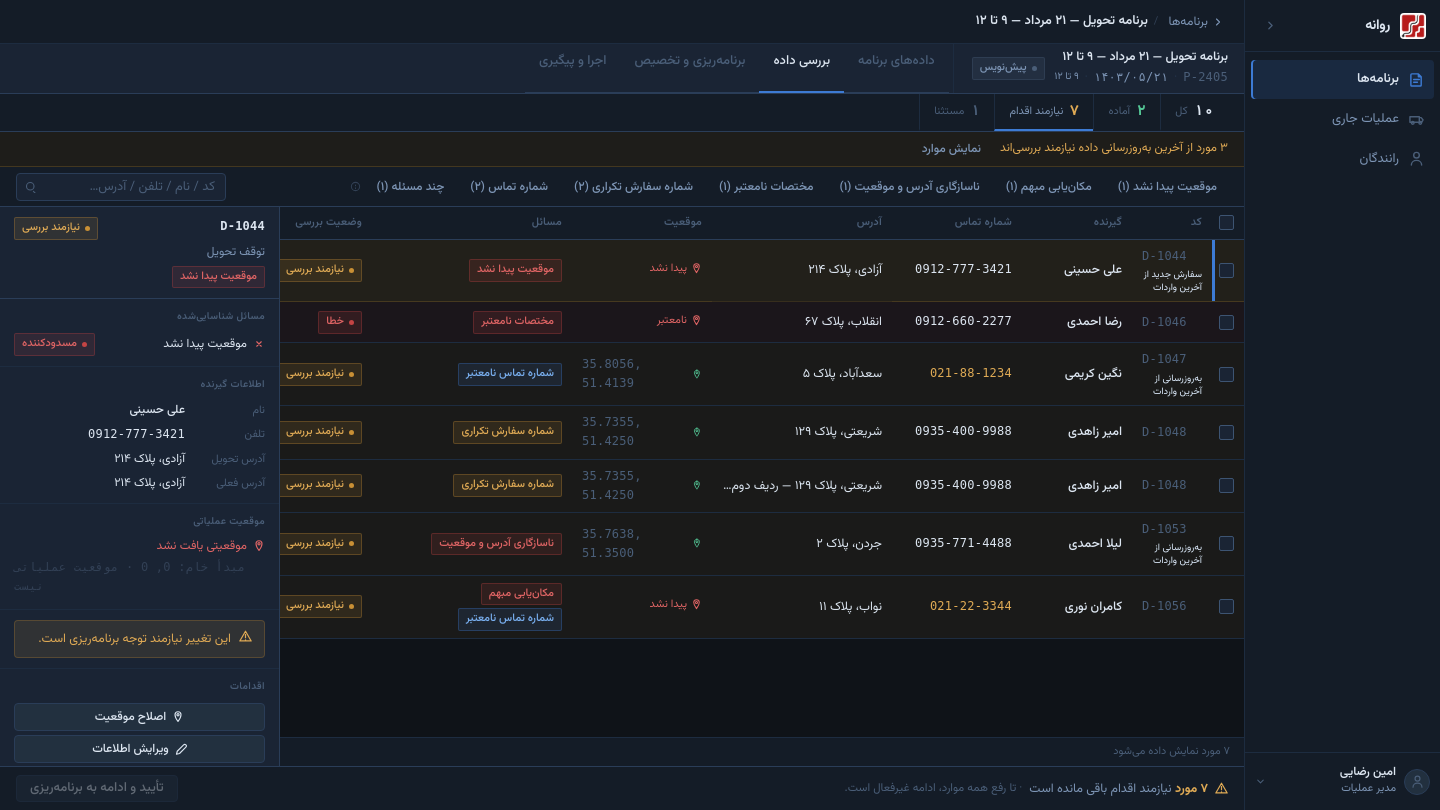
Test: Review shell › preserves hidden selection while search and filters change
The image size is (1440, 810).
Expected: the heading "اطلاعات گیرنده" is shown, [201, 376, 265, 392]
Click the checkbox named "انتخاب D-1044" at [1226, 270], box [1219, 263, 1234, 278]
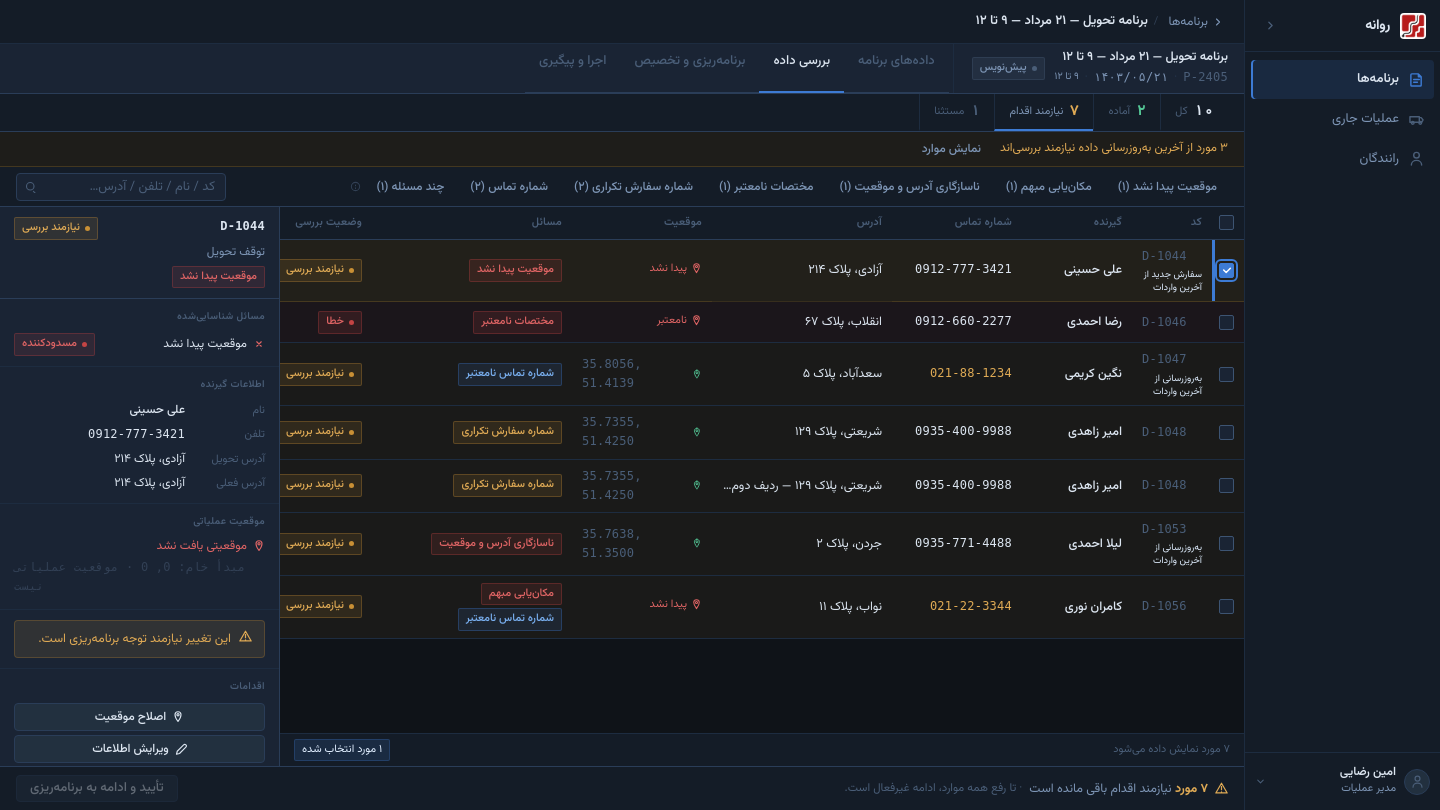
Type "رضا" into the search field named "جستجوی موارد بررسی" at [121, 186], box [16, 172, 226, 200]
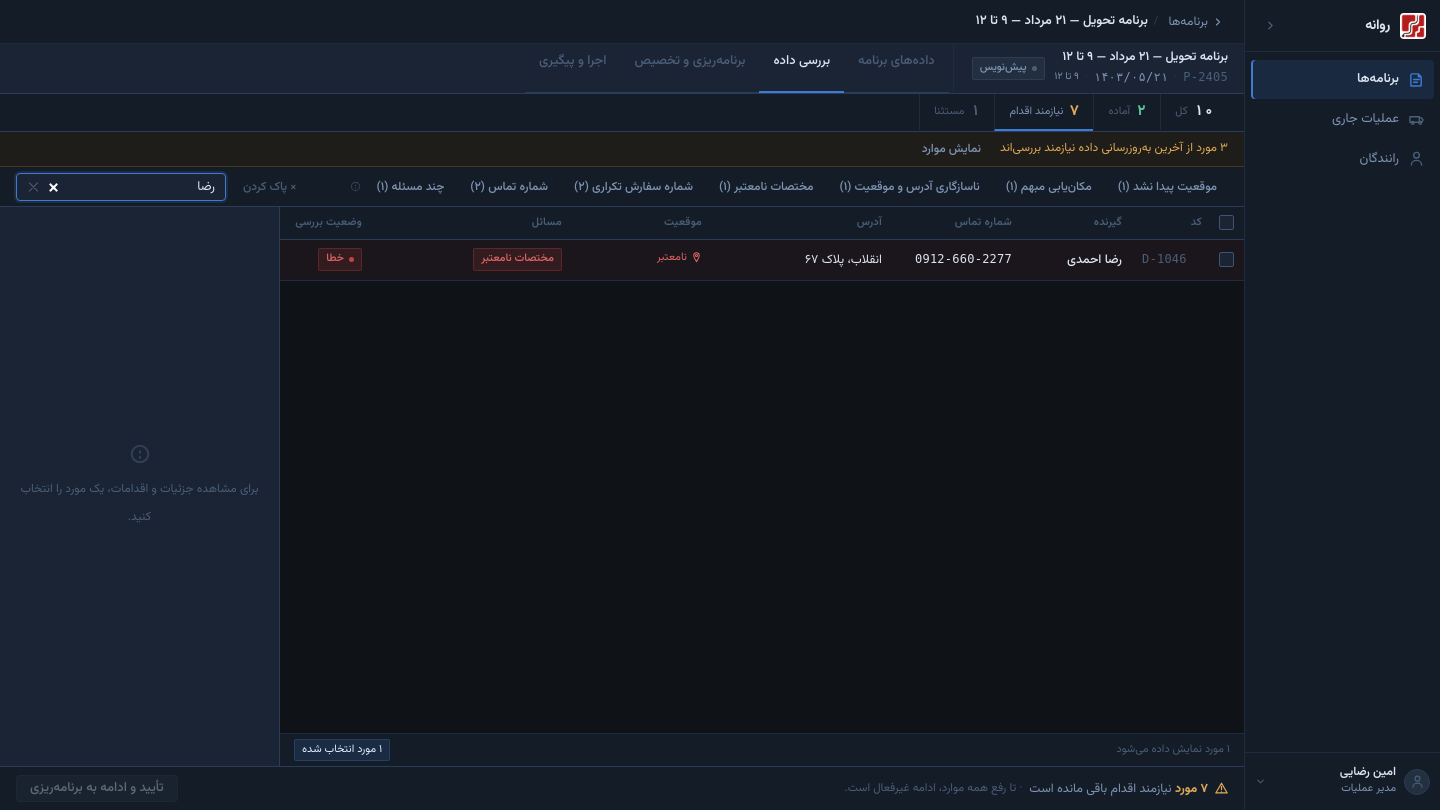
Result: the text "۱ مورد انتخاب شده" is shown at [294, 739, 390, 761]
Clear the search field named "جستجوی موارد بررسی" at [121, 186], box [16, 172, 226, 200]
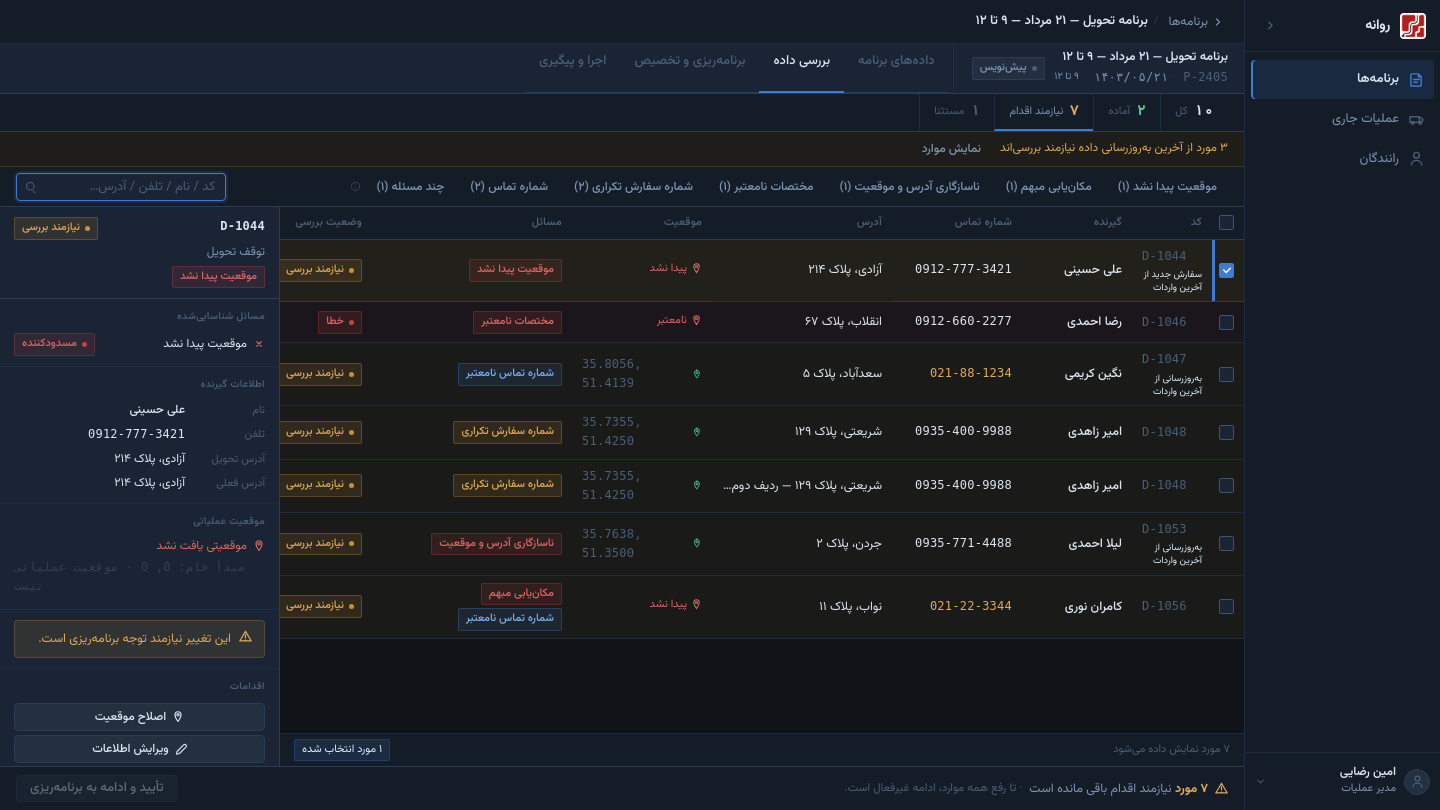
Result: the checkbox named "انتخاب D-1044" is checked at [1219, 263, 1234, 278]
